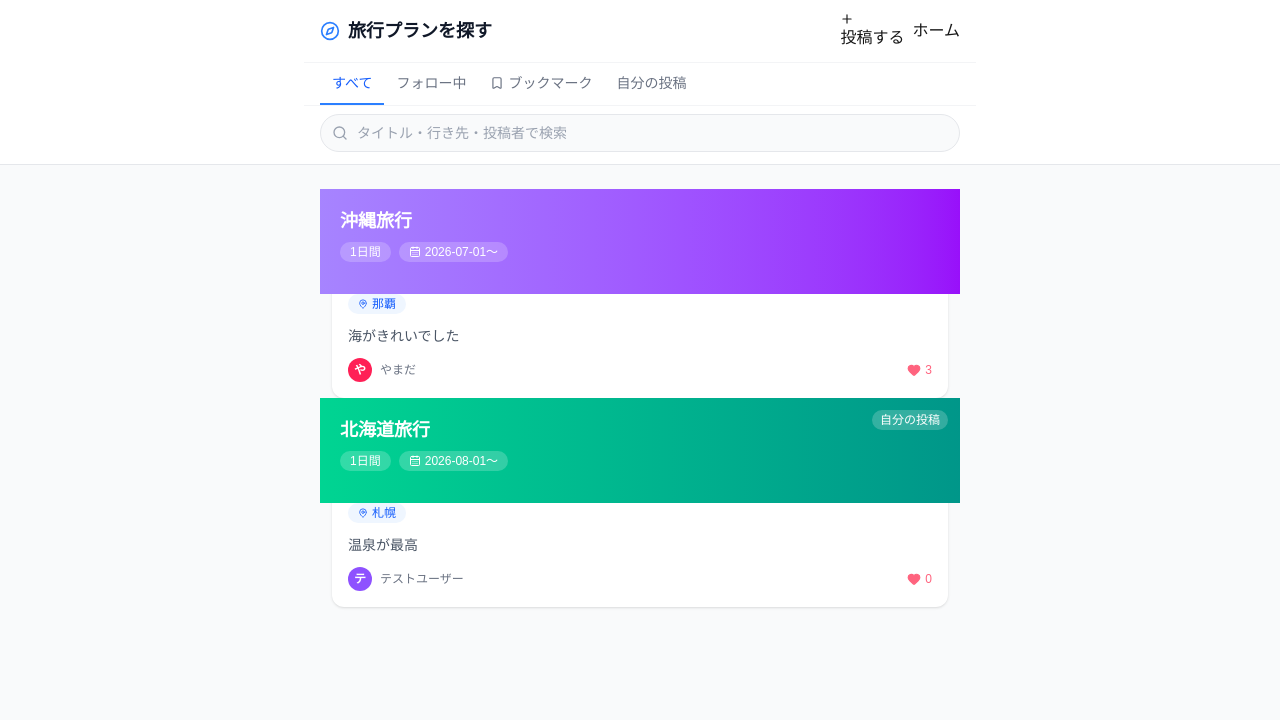
Test: FeedPage › 「自分の投稿」タブで自分の投稿のみ表示する
Expected: the heading "沖縄旅行" is shown, left=340, top=211, right=412, bottom=231
Click the button with test id "tab-mine": x=652, y=84 left=604, top=63, right=698, bottom=105
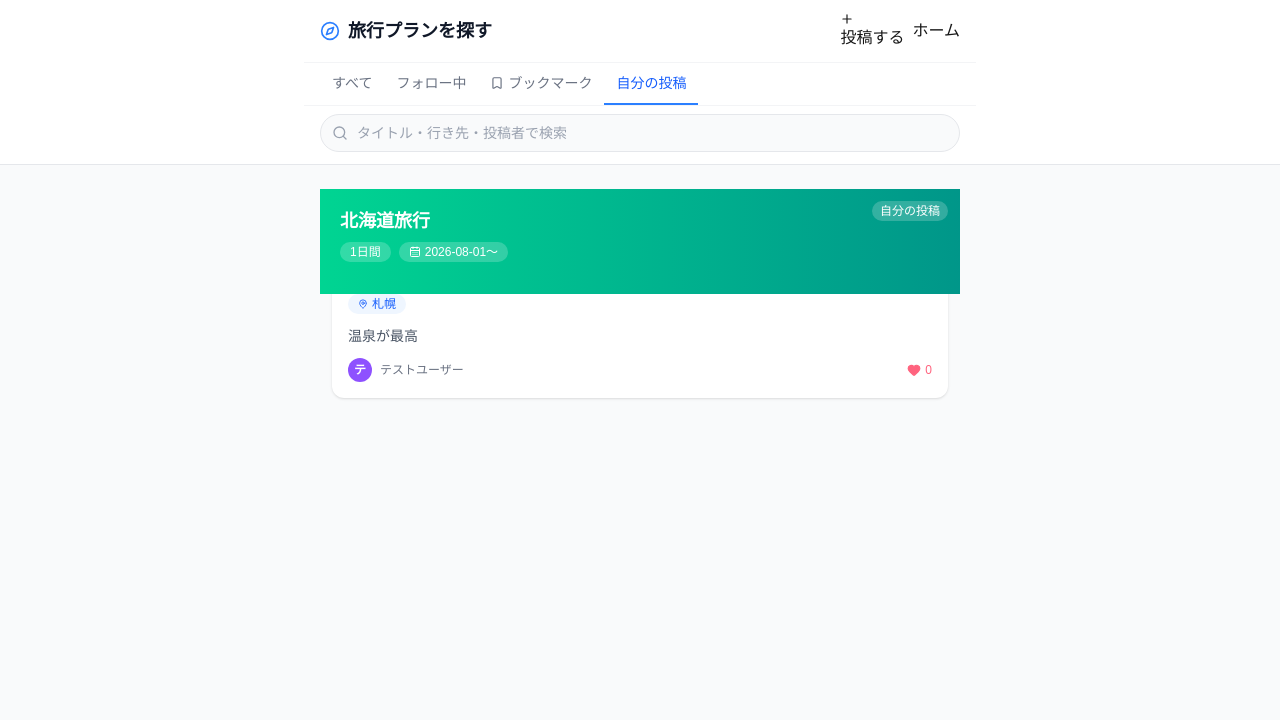
Expected: the heading "北海道旅行" is shown, left=340, top=211, right=430, bottom=231
Now the link "沖縄旅行" is gone
